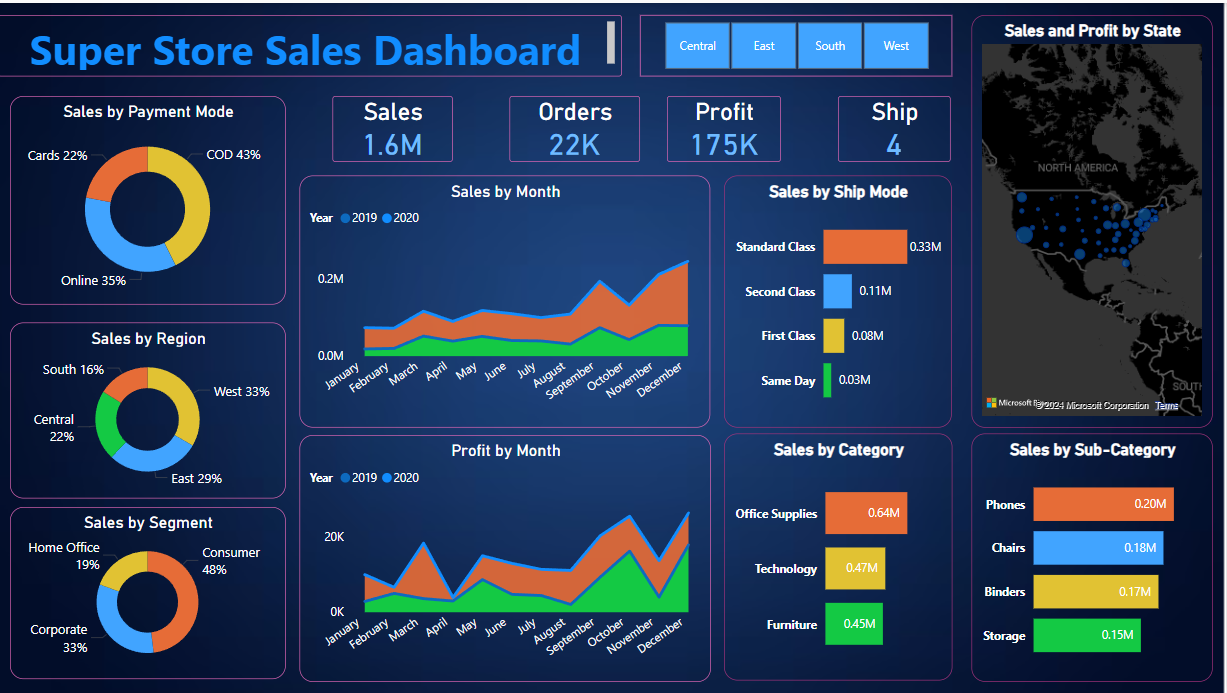

The page's visual inventory and layout, read from the dashboard file:
{"tool":"powerbi","page":{"name":"SuperStore_Dashboard","canvas":[1280,720],"ordinal":0},"visuals":[{"type":"clusteredBarChart","title":"Sales by Category","fields":{"Category":["SuperStore_Sales_Dataset.Category"],"Y":["Sum(SuperStore_Sales_Dataset.Sales)"]},"box":[755.9,447.9,238.1,257],"z":0},{"type":"clusteredBarChart","title":"Sales by Sub-Category","fields":{"Category":["SuperStore_Sales_Dataset.Sub-Category"],"Y":["Sum(SuperStore_Sales_Dataset.Sales)"]},"box":[1014.8,447.9,251.3,258.9],"z":1000},{"type":"clusteredBarChart","title":"Sales by Ship Mode","fields":{"Y":["Sum(SuperStore_Sales_Dataset.Sales)"],"Category":["SuperStore_Sales_Dataset.Ship Mode"]},"box":[756.5,179.7,237.6,262.6],"z":2000},{"type":"donutChart","title":"Sales by Payment Mode","fields":{"Category":["SuperStore_Sales_Dataset.Payment Mode"],"Y":["Sum(SuperStore_Sales_Dataset.Sales)"]},"box":[13.2,96.4,287.2,217.3],"z":3000},{"type":"donutChart","title":"Sales by Segment","fields":{"Y":["Sum(SuperStore_Sales_Dataset.Sales)"],"Category":["SuperStore_Sales_Dataset.Segment"]},"box":[13.2,525.4,287.2,179.5],"z":4000},{"type":"donutChart","title":"Sales by Region","fields":{"Y":["Sum(SuperStore_Sales_Dataset.Sales)"],"Category":["SuperStore_Sales_Dataset.Region"]},"box":[13.2,332.6,287.2,183.3],"z":5000},{"type":"stackedAreaChart","title":"Sales by Month","fields":{"Y":["Sum(SuperStore_Sales_Dataset.Sales)"],"Category":["SuperStore_Sales_Dataset.Order Date.Variation.Date Hierarchy.Month","SuperStore_Sales_Dataset.Order Date.Variation.Date Hierarchy.Day"],"Series":["SuperStore_Sales_Dataset.Order Date.Variation.Date Hierarchy.Year"]},"box":[314.2,179.7,428.3,262.6],"z":6000},{"type":"stackedAreaChart","title":"Profit by Month","fields":{"Category":["SuperStore_Sales_Dataset.Order Date.Variation.Date Hierarchy.Month","SuperStore_Sales_Dataset.Order Date.Variation.Date Hierarchy.Day"],"Series":["SuperStore_Sales_Dataset.Order Date.Variation.Date Hierarchy.Year"],"Y":["Sum(SuperStore_Sales_Dataset.Profit)"]},"box":[313.7,449.8,429,257],"z":7000},{"type":"map","title":"Sales and Profit by State","fields":{"Category":["SuperStore_Sales_Dataset.State"],"Size":["Sum(SuperStore_Sales_Dataset.Sales)"]},"box":[1014.4,12.5,251.6,429.8],"z":8000},{"type":"slicer","fields":{"Values":["SuperStore_Sales_Dataset.Region"]},"box":[669,12.5,325.1,64.1],"z":9000},{"type":"textbox","box":[0,12.5,650.2,64.1],"z":10000},{"type":"card","title":"Profit","fields":{"Values":["Sum(SuperStore_Sales_Dataset.Profit)"]},"box":[697.1,96.9,118.8,68.8],"z":11000},{"type":"card","title":"Sales","fields":{"Values":["Sum(SuperStore_Sales_Dataset.Sales)"]},"box":[348.5,96.9,125,68.8],"z":12000},{"type":"card","title":"Ship","fields":{"Values":["Avg(SuperStore_Sales_Dataset.AvgDelivery)"]},"box":[875.3,96.9,117.2,68.8],"z":13000},{"type":"card","title":"Orders","fields":{"Values":["Sum(SuperStore_Sales_Dataset.Quantity)"]},"box":[533,96.9,136,68.8],"z":14000}]}

Visuals, with their boxes in screenshot pixels (x1, y1, x2, y2), scaled from the page's 1280x720 canvas onto the 1227x693 screenshot:
"Sales by Category" clusteredBarChart: bbox=[725, 431, 953, 678]
"Sales by Sub-Category" clusteredBarChart: bbox=[973, 431, 1214, 680]
"Sales by Ship Mode" clusteredBarChart: bbox=[725, 173, 953, 426]
"Sales by Payment Mode" donutChart: bbox=[13, 93, 288, 302]
"Sales by Segment" donutChart: bbox=[13, 506, 288, 678]
"Sales by Region" donutChart: bbox=[13, 320, 288, 497]
"Sales by Month" stackedAreaChart: bbox=[301, 173, 712, 426]
"Profit by Month" stackedAreaChart: bbox=[301, 433, 712, 680]
"Sales and Profit by State" map: bbox=[972, 12, 1214, 426]
slicer - SuperStore_Sales_Dataset.Region: bbox=[641, 12, 953, 74]
textbox: bbox=[0, 12, 623, 74]
"Profit" card: bbox=[668, 93, 782, 159]
"Sales" card: bbox=[334, 93, 454, 159]
"Ship" card: bbox=[839, 93, 951, 159]
"Orders" card: bbox=[511, 93, 641, 159]
